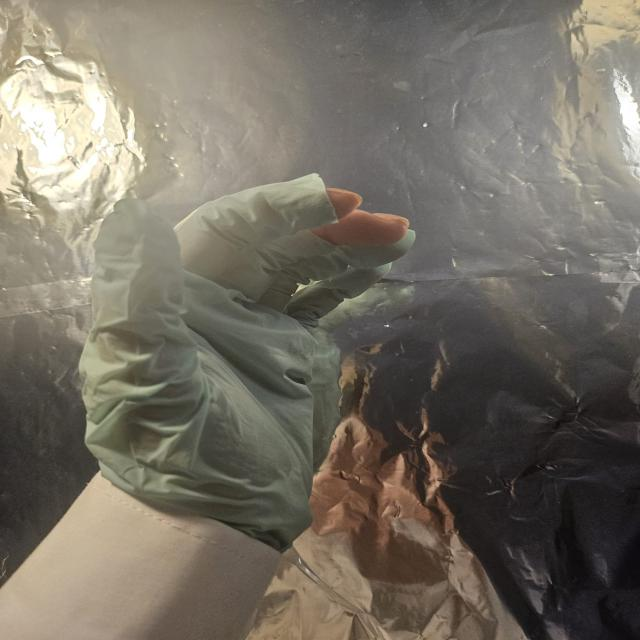gloves_damaged: (80, 172, 418, 558)
